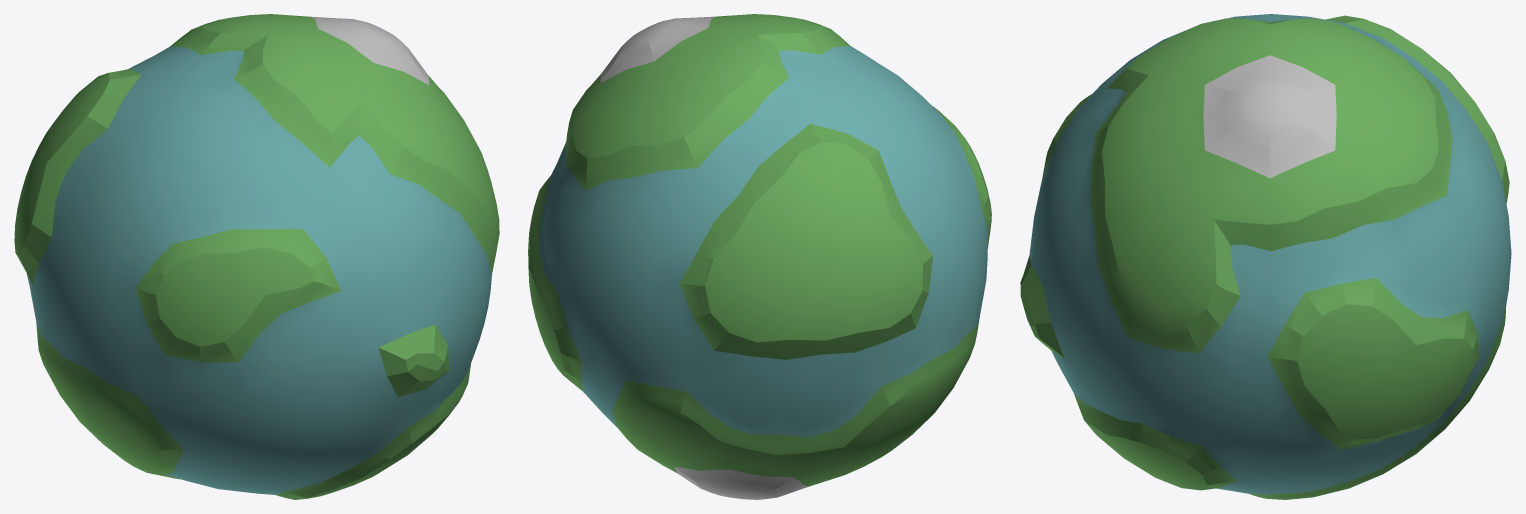
Rendered from planet_1.glb.
3 views of the same model, side by side, from view 1: azimuth 30°, elevation 25°; view 2: azimuth 150°, elevation 25°; view 3: azimuth 270°, elevation 25° (orthographic). The views are drawn at different scales.
Parts seen in each view (by area): view 1: Planet_1; view 2: Planet_1; view 3: Planet_1.
Boxes of the visible parts, x1,y1,x2,y2 form: Planet_1: (14,14,499,499); Planet_1: (528,14,991,499); Planet_1: (1020,14,1511,499).
Size of the model in its own units: 3.78 by 3.93 by 3.8.
1 material, 1 textured.
